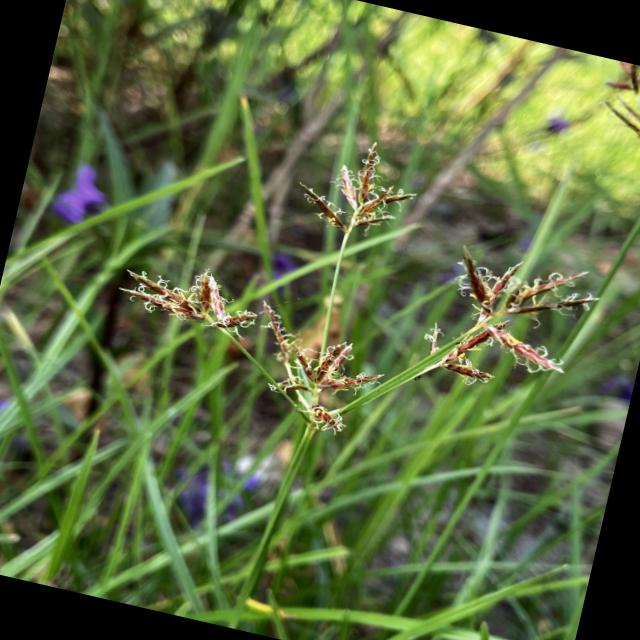cyperus: (84, 80, 633, 508), (412, 232, 612, 424), (234, 288, 400, 447), (283, 120, 430, 262), (104, 239, 273, 360), (577, 57, 640, 194)
